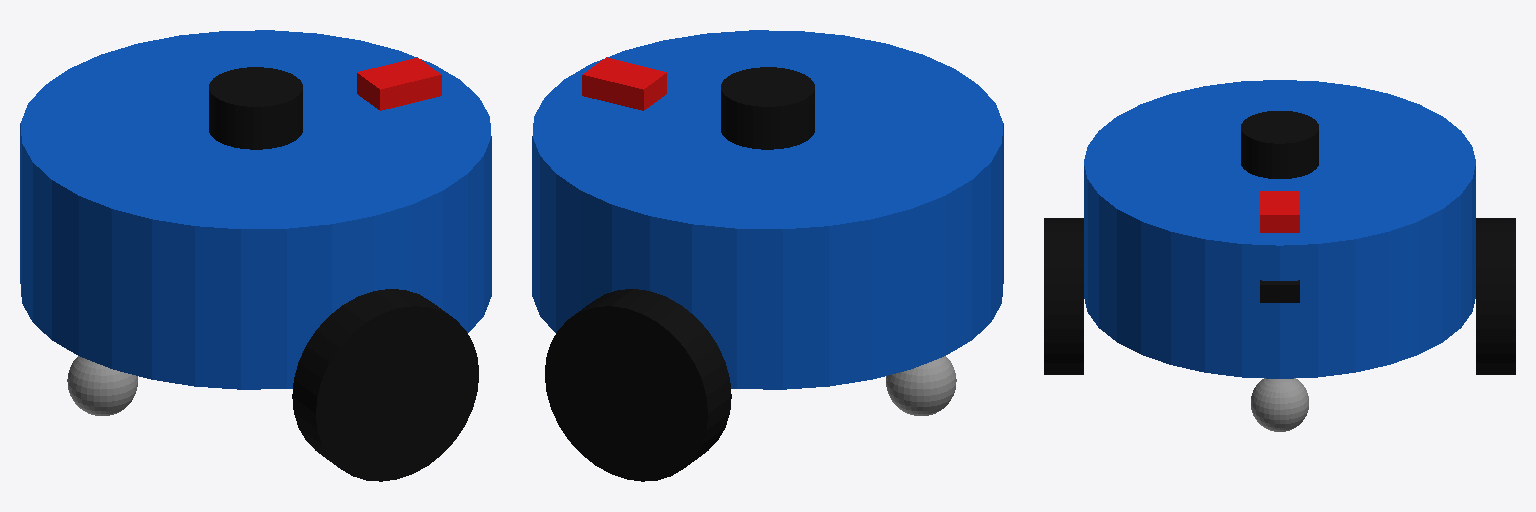
URDF robot description (custom_robot):
<?xml version="1.0"?>
<robot name="custom_robot" xmlns:xacro="http://www.ros.org/wiki/xacro">

  <!-- ==================== Materials ==================== -->
  <material name="blue">
    <color rgba="0.1 0.4 0.8 1.0"/>
  </material>
  <material name="black">
    <color rgba="0.1 0.1 0.1 1.0"/>
  </material>
  <material name="grey">
    <color rgba="0.6 0.6 0.6 1.0"/>
  </material>
  <material name="red">
    <color rgba="0.9 0.1 0.1 1.0"/>
  </material>

  <!-- ==================== Base Link & Footprint ==================== -->
  <!-- Dummy link at ground level -->
  <link name="base_footprint"/>

  <link name="base_link">
    <!-- Chassis Cylindrical Body -->
    <visual>
      <origin xyz="0 0 0.075" rpy="0 0 0"/>
      <geometry>
        <cylinder radius="0.2" length="0.15"/>
      </geometry>
      <material name="blue"/>
    </visual>
    <!-- Front Direction Indicator (Red rectangular block on top of the chassis) -->
    <visual>
      <origin xyz="0.14 0 0.16" rpy="0 0 0"/>
      <geometry>
        <box size="0.06 0.04 0.02"/>
      </geometry>
      <material name="red"/>
    </visual>
    <collision>
      <origin xyz="0 0 0.075" rpy="0 0 0"/>
      <geometry>
        <cylinder radius="0.2" length="0.15"/>
      </geometry>
    </collision>
    <!-- Inertial properties for 5kg cylinder -->
    <inertial>
      <mass value="5.0"/>
      <origin xyz="0 0 0.075" rpy="0 0 0"/>
      <inertia ixx="0.059" ixy="0.0" ixz="0.0" iyy="0.059" iyz="0.0" izz="0.1"/>
    </inertial>
  </link>

  <joint name="base_joint" type="fixed">
    <parent link="base_footprint"/>
    <child link="base_link"/>
    <!-- Elevate base_link so wheels with radius 0.08m sit on the ground -->
    <origin xyz="0 0 0.08" rpy="0 0 0"/>
  </joint>

  <!-- ==================== Left Wheel ==================== -->
  <link name="left_wheel">
    <visual>
      <origin xyz="0 0 0" rpy="1.57079632679 0 0"/>
      <geometry>
        <cylinder radius="0.08" length="0.04"/>
      </geometry>
      <material name="black"/>
    </visual>
    <collision>
      <origin xyz="0 0 0" rpy="1.57079632679 0 0"/>
      <geometry>
        <cylinder radius="0.08" length="0.04"/>
      </geometry>
    </collision>
    <!-- Inertial properties for 0.5kg cylinder wheel -->
    <inertial>
      <mass value="0.5"/>
      <origin xyz="0 0 0" rpy="1.57079632679 0 0"/>
      <inertia ixx="0.00087" ixy="0.0" ixz="0.0" iyy="0.0016" iyz="0.0" izz="0.00087"/>
    </inertial>
  </link>

  <joint name="left_wheel_joint" type="continuous">
    <parent link="base_link"/>
    <child link="left_wheel"/>
    <!-- Positioned at Y = 0.22 (chassis radius 0.2 + offset) and Z = 0 (relative to base_link) -->
    <origin xyz="0 0.22 0" rpy="0 0 0"/>
    <axis xyz="0 1 0"/>
    <limit effort="1.5" velocity="10.0"/>
  </joint>

  <!-- ==================== Right Wheel ==================== -->
  <link name="right_wheel">
    <visual>
      <origin xyz="0 0 0" rpy="1.57079632679 0 0"/>
      <geometry>
        <cylinder radius="0.08" length="0.04"/>
      </geometry>
      <material name="black"/>
    </visual>
    <collision>
      <origin xyz="0 0 0" rpy="1.57079632679 0 0"/>
      <geometry>
        <cylinder radius="0.08" length="0.04"/>
      </geometry>
    </collision>
    <inertial>
      <mass value="0.5"/>
      <origin xyz="0 0 0" rpy="1.57079632679 0 0"/>
      <inertia ixx="0.00087" ixy="0.0" ixz="0.0" iyy="0.0016" iyz="0.0" izz="0.00087"/>
    </inertial>
  </link>

  <joint name="right_wheel_joint" type="continuous">
    <parent link="base_link"/>
    <child link="right_wheel"/>
    <origin xyz="0 -0.22 0" rpy="0 0 0"/>
    <axis xyz="0 1 0"/>
    <limit effort="1.5" velocity="10.0"/>
  </joint>

  <!-- ==================== Rear Caster Wheel ==================== -->
  <link name="rear_caster_wheel">
    <visual>
      <origin xyz="0 0 0" rpy="0 0 0"/>
      <geometry>
        <sphere radius="0.03"/>
      </geometry>
      <material name="grey"/>
    </visual>
    <collision>
      <origin xyz="0 0 0" rpy="0 0 0"/>
      <geometry>
        <sphere radius="0.03"/>
      </geometry>
    </collision>
    <!-- Inertial properties for 0.2kg sphere caster -->
    <inertial>
      <mass value="0.2"/>
      <origin xyz="0 0 0" rpy="0 0 0"/>
      <inertia ixx="0.000072" ixy="0.0" ixz="0.0" iyy="0.000072" iyz="0.0" izz="0.000072"/>
    </inertial>
  </link>

  <joint name="rear_caster_joint" type="fixed">
    <parent link="base_link"/>
    <child link="rear_caster_wheel"/>
    <origin xyz="-0.15 0 -0.05" rpy="0 0 0"/>
  </joint>

  <!-- ==================== Front Caster Wheel ==================== -->
  <link name="front_caster_wheel">
    <visual>
      <origin xyz="0 0 0" rpy="0 0 0"/>
      <geometry>
        <sphere radius="0.03"/>
      </geometry>
      <material name="grey"/>
    </visual>
    <collision>
      <origin xyz="0 0 0" rpy="0 0 0"/>
      <geometry>
        <sphere radius="0.03"/>
      </geometry>
    </collision>
    <inertial>
      <mass value="0.2"/>
      <origin xyz="0 0 0" rpy="0 0 0"/>
      <inertia ixx="0.000072" ixy="0.0" ixz="0.0" iyy="0.000072" iyz="0.0" izz="0.000072"/>
    </inertial>
  </link>

  <joint name="front_caster_joint" type="fixed">
    <parent link="base_link"/>
    <child link="front_caster_wheel"/>
    <origin xyz="0.15 0 -0.05" rpy="0 0 0"/>
  </joint>

  <!-- ==================== LiDAR Sensor ==================== -->
  <link name="lidar_link">
    <visual>
      <origin xyz="0 0 0.02" rpy="0 0 0"/>
      <geometry>
        <cylinder radius="0.04" length="0.04"/>
      </geometry>
      <material name="black"/>
    </visual>
    <collision>
      <origin xyz="0 0 0.02" rpy="0 0 0"/>
      <geometry>
        <cylinder radius="0.04" length="0.04"/>
      </geometry>
    </collision>
    <inertial>
      <mass value="0.1"/>
      <origin xyz="0 0 0.02" rpy="0 0 0"/>
      <inertia ixx="0.000053" ixy="0.0" ixz="0.0" iyy="0.000053" iyz="0.0" izz="0.00008"/>
    </inertial>
  </link>

  <joint name="lidar_joint" type="fixed">
    <parent link="base_link"/>
    <child link="lidar_link"/>
    <origin xyz="0 0 0.15" rpy="0 0 0"/>
  </joint>

  <!-- Gazebo Sensor configuration for gpu_lidar -->
  <gazebo reference="lidar_link">
    <sensor name="gpu_lidar" type="gpu_lidar">
      <pose>0 0 0.04 0 0 0</pose>
      <update_rate>10</update_rate>
      <frame_id>lidar_link</frame_id>
      <lidar>
        <scan>
          <horizontal>
            <samples>720</samples>
            <resolution>1</resolution>
            <min_angle>-3.14159265</min_angle>
            <max_angle>3.14159265</max_angle>
          </horizontal>
        </scan>
        <range>
          <min>0.25</min>
          <max>10.0</max>
          <resolution>0.01</resolution>
        </range>
        <noise>
          <type>gaussian</type>
          <mean>0.0</mean>
          <stddev>0.005</stddev>
        </noise>
      </lidar>
      <always_on>1</always_on>
      <visualize>false</visualize>
      <topic>/scan</topic>
    </sensor>
  </gazebo>

  <!-- ==================== Camera Sensor ==================== -->
  <link name="camera_link">
    <visual>
      <origin xyz="0 0 0" rpy="0 0 0"/>
      <geometry>
        <box size="0.02 0.04 0.02"/>
      </geometry>
      <material name="black"/>
    </visual>
    <collision>
      <origin xyz="0 0 0" rpy="0 0 0"/>
      <geometry>
        <box size="0.02 0.04 0.02"/>
      </geometry>
    </collision>
    <inertial>
      <mass value="0.05"/>
      <origin xyz="0 0 0" rpy="0 0 0"/>
      <inertia ixx="0.000008" ixy="0.0" ixz="0.0" iyy="0.000008" iyz="0.0" izz="0.000008"/>
    </inertial>
  </link>

  <joint name="camera_joint" type="fixed">
    <parent link="base_link"/>
    <child link="camera_link"/>
    <!-- Positioned at the top front edge of the cylinder chassis (Radius 0.2, Height 0.15) -->
    <origin xyz="0.2 0 0.1" rpy="0 0 0"/>
  </joint>

  <!-- Camera Optical Frame (converts camera coordinates to Z-forward convention) -->
  <link name="camera_link_optical"/>
  <joint name="camera_optical_joint" type="fixed">
    <parent link="camera_link"/>
    <child link="camera_link_optical"/>
    <origin xyz="0 0 0" rpy="-1.57079632679 0 -1.57079632679"/>
  </joint>

  <gazebo reference="camera_link">
    <sensor name="camera" type="camera">
      <pose>0 0 0 0 0 0</pose>
      <update_rate>10</update_rate>
      <visualize>false</visualize>
      <topic>/camera/image_raw</topic>
      <camera>
        <horizontal_fov>1.047</horizontal_fov>
        <image>
          <width>640</width>
          <height>480</height>
          <format>R8G8B8</format>
        </image>
        <clip>
          <near>0.1</near>
          <far>50.0</far>
        </clip>
      </camera>
    </sensor>
  </gazebo>

  <!-- ==================== IMU Sensor ==================== -->
  <link name="imu_link">
    <visual>
      <origin xyz="0 0 0" rpy="0 0 0"/>
      <geometry>
        <box size="0.02 0.02 0.01"/>
      </geometry>
      <material name="black"/>
    </visual>
    <collision>
      <origin xyz="0 0 0" rpy="0 0 0"/>
      <geometry>
        <box size="0.02 0.02 0.01"/>
      </geometry>
    </collision>
    <inertial>
      <mass value="0.01"/>
      <origin xyz="0 0 0" rpy="0 0 0"/>
      <inertia ixx="0.000001" ixy="0.0" ixz="0.0" iyy="0.000001" iyz="0.0" izz="0.000001"/>
    </inertial>
  </link>

  <joint name="imu_joint" type="fixed">
    <parent link="base_link"/>
    <child link="imu_link"/>
    <!-- Positioned inside the center of the chassis -->
    <origin xyz="0 0 0.08" rpy="0 0 0"/>
  </joint>

  <gazebo reference="imu_link">
    <sensor name="imu" type="imu">
      <always_on>1</always_on>
      <update_rate>50</update_rate>
      <visualize>true</visualize>
      <topic>/imu</topic>
    </sensor>
  </gazebo>

  <!-- ==================== Gazebo Plugins & Physics ==================== -->
  <!-- Low friction for caster wheels to enable sliding -->
  <gazebo reference="rear_caster_wheel">
    <mu1>0.0</mu1>
    <mu2>0.0</mu2>
  </gazebo>
  <gazebo reference="front_caster_wheel">
    <mu1>0.0</mu1>
    <mu2>0.0</mu2>
  </gazebo>

  <!-- Realistic surface friction for left and right wheels -->
  <gazebo reference="left_wheel">
    <mu1>1.0</mu1>
    <mu2>0.8</mu2>
    <kp>1000000.0</kp>
    <kd>1.0</kd>
  </gazebo>
  <gazebo reference="right_wheel">
    <mu1>1.0</mu1>
    <mu2>0.8</mu2>
    <kp>1000000.0</kp>
    <kd>1.0</kd>
  </gazebo>

  <!-- Diff-drive and Joint State Publisher plugins -->
  <gazebo>
    <plugin
      filename="gz-sim-diff-drive-system"
      name="gz::sim::systems::DiffDrive">
      <left_joint>left_wheel_joint</left_joint>
      <right_joint>right_wheel_joint</right_joint>
      <wheel_separation>0.44</wheel_separation>
      <wheel_radius>0.08</wheel_radius>
      <max_linear_acceleration>4.0</max_linear_acceleration>
      <min_linear_acceleration>-4.0</min_linear_acceleration>
      <max_angular_acceleration>6.0</max_angular_acceleration>
      <min_angular_acceleration>-6.0</min_angular_acceleration>
      <max_linear_velocity>2.0</max_linear_velocity>
      <min_linear_velocity>-2.0</min_linear_velocity>
      <max_angular_velocity>3.5</max_angular_velocity>
      <min_angular_velocity>-3.5</min_angular_velocity>
      <topic>/cmd_vel</topic>
      <odom_topic>/wheel_odom</odom_topic>
      <tf_topic>/tf_raw</tf_topic>
      <frame_id>odom</frame_id>
      <child_frame_id>base_footprint</child_frame_id>
      <odom_publish_frequency>30</odom_publish_frequency>
      <publish_odom_tf>false</publish_odom_tf>
    </plugin>

    <plugin
      filename="gz-sim-joint-state-publisher-system"
      name="gz::sim::systems::JointStatePublisher">
      <joint_name>left_wheel_joint</joint_name>
      <joint_name>right_wheel_joint</joint_name>
      <topic>/joint_states</topic>
    </plugin>
  </gazebo>

</robot>

--- Render facts (derived) ---
The picture shows the robot from 3 angles, left to right: view 1: azimuth 30°, elevation 25°; view 2: azimuth 150°, elevation 25°; view 3: azimuth 270°, elevation 25°; orthographic projection.
Model custom_robot with 10 links and 9 joints (2 continuous, 7 fixed), rooted at base_footprint, posed all joints at 0.
Visible links, largest first — view 1: base_link, right_wheel, lidar_link, rear_caster_wheel; view 2: base_link, left_wheel, lidar_link, rear_caster_wheel; view 3: base_link, left_wheel, right_wheel, lidar_link, front_caster_wheel, camera_link.
Boxes of the visible links, box(x1,y1,x2,y2) form: base_link: box(20, 30, 491, 389); right_wheel: box(292, 289, 478, 481); lidar_link: box(209, 67, 302, 149); rear_caster_wheel: box(67, 356, 137, 415); base_link: box(532, 30, 1003, 389); left_wheel: box(545, 289, 731, 481); lidar_link: box(721, 67, 814, 149); rear_caster_wheel: box(886, 356, 956, 415); base_link: box(1084, 80, 1475, 378); left_wheel: box(1476, 218, 1515, 374); right_wheel: box(1044, 218, 1083, 374); lidar_link: box(1241, 111, 1318, 178); front_caster_wheel: box(1251, 378, 1308, 431); camera_link: box(1260, 280, 1299, 302).
Bounding box of the posed robot: 0.41 × 0.48 × 0.27 m (x, y, z).
Geometry: primitives only (box / cylinder / sphere), no mesh files.
